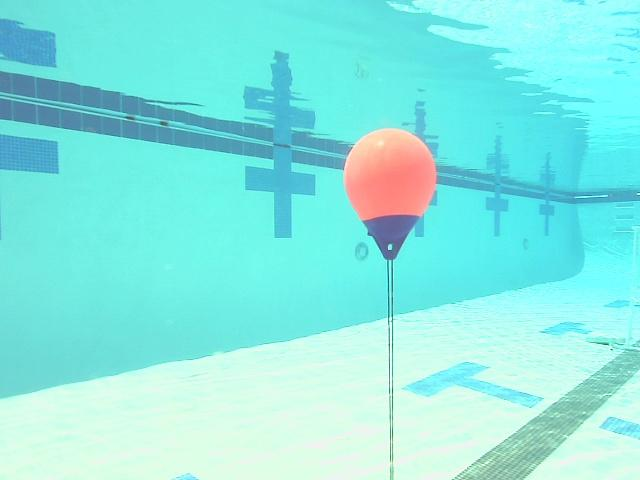buoy: (344, 128, 437, 260)
